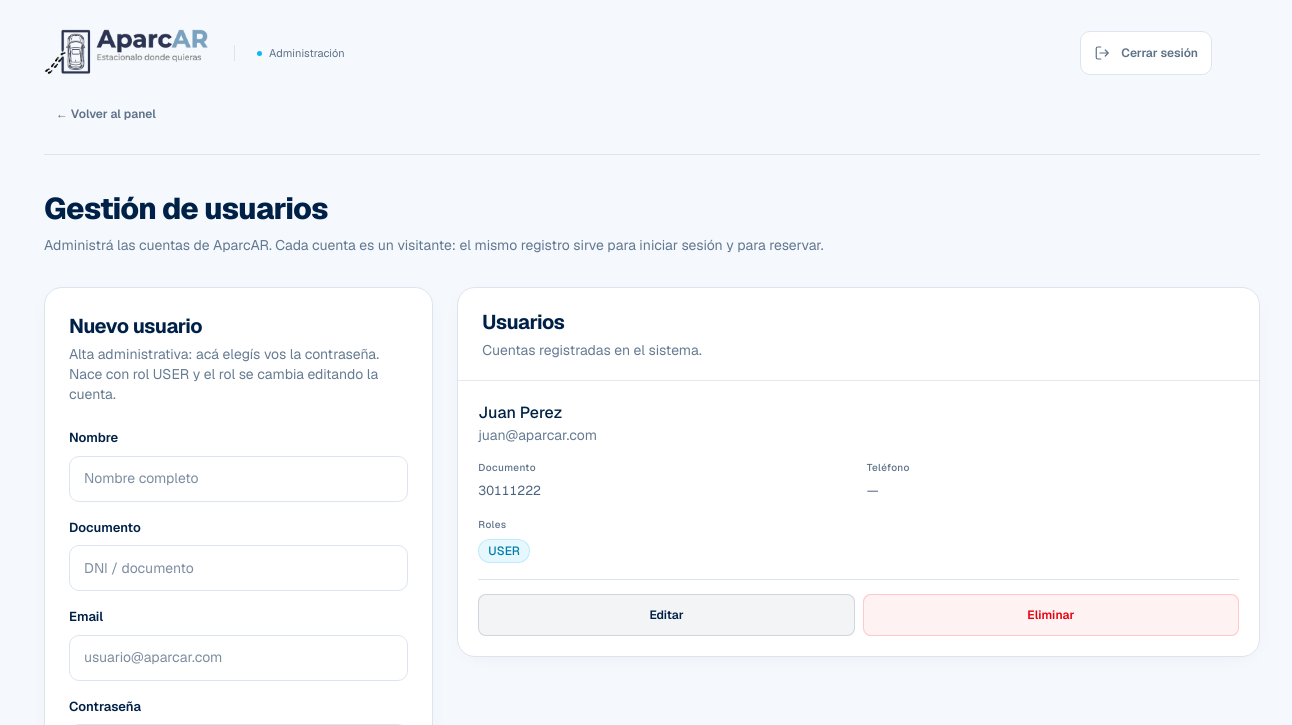
Test: UserManagement › editar sin ningun rol marcado muestra el error de validacion
This screenshot has width=1292, height=725.
Check: the text "Juan Perez" is shown, box [478, 402, 562, 423]
Click the button "Editar" at [666, 615], box [478, 594, 855, 636]
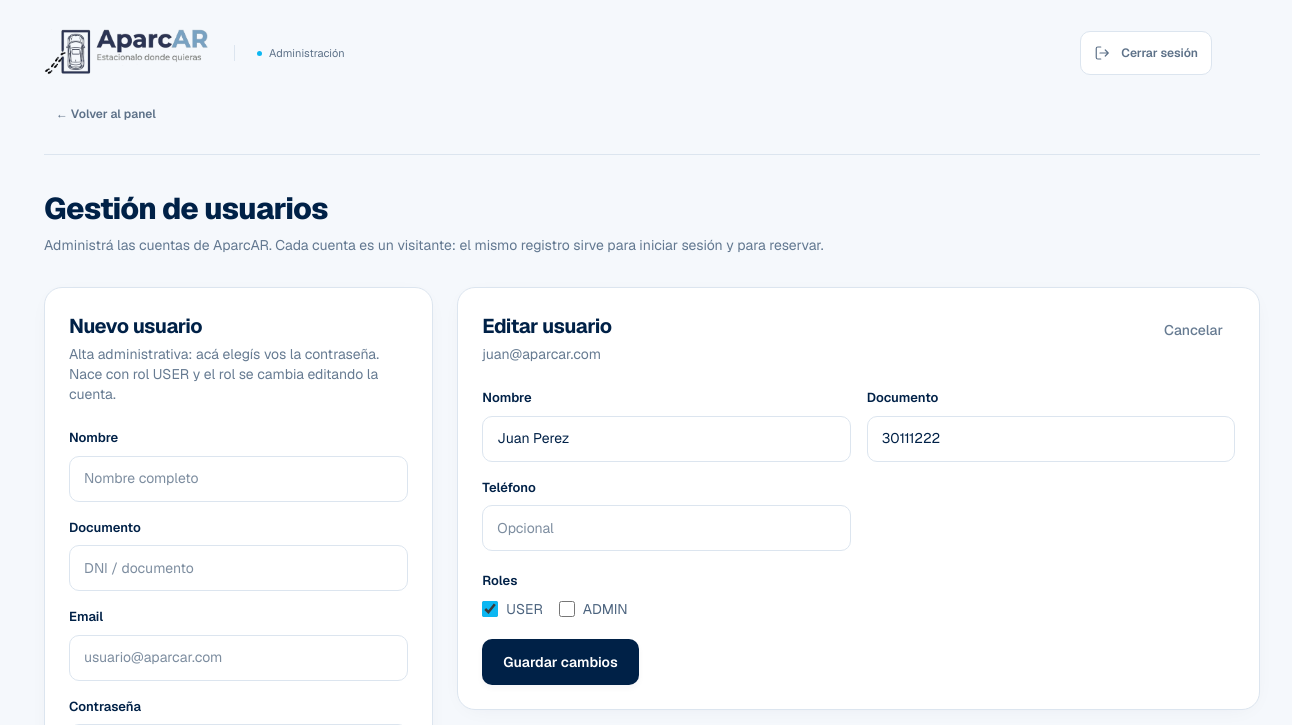
Click the checkbox labelled "USER" at [490, 608], box [482, 600, 498, 616]
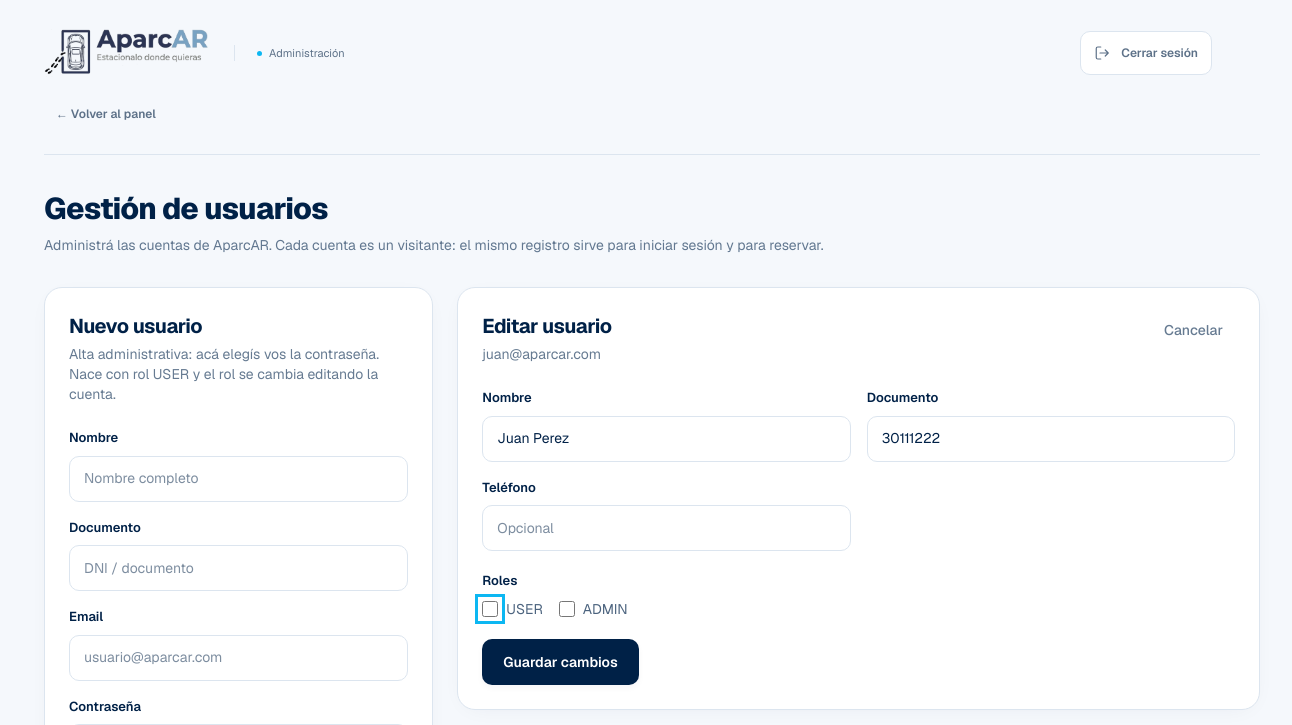
Click the button "Guardar cambios" at [560, 662], box [482, 638, 639, 684]
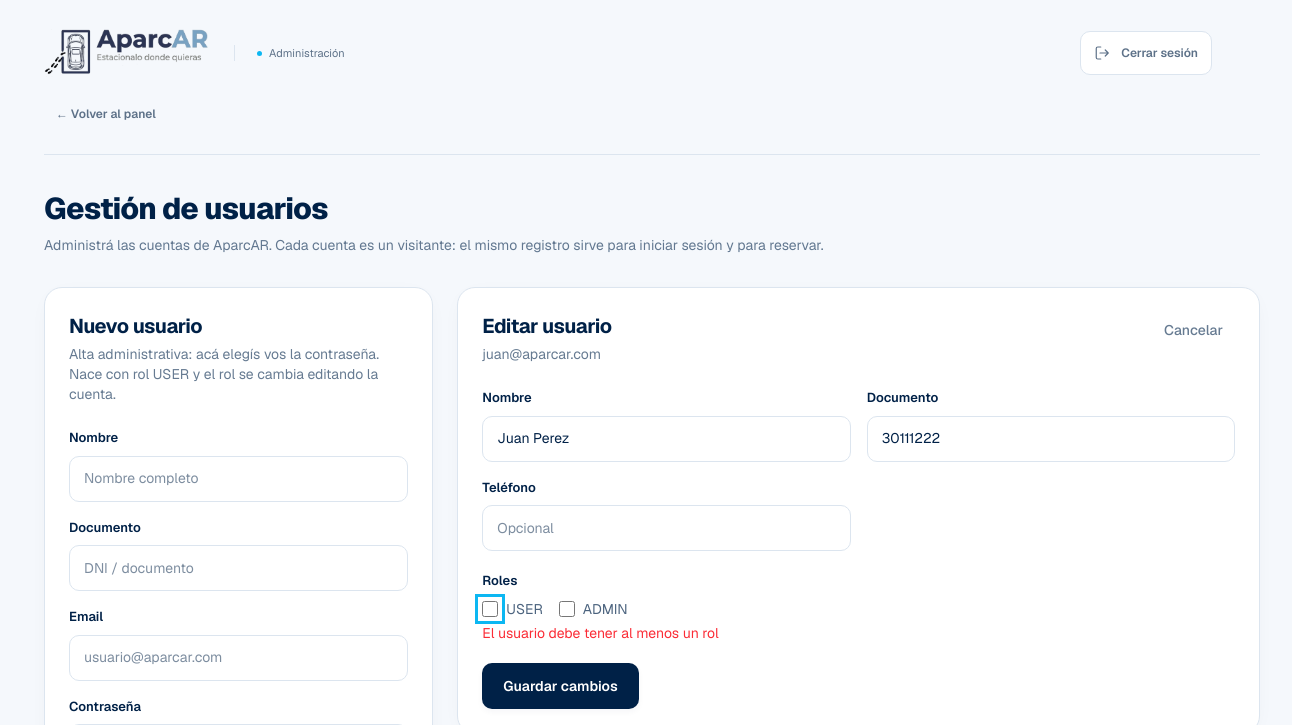
Check: the text "El usuario debe tener al menos un rol" is shown, box [482, 624, 719, 642]
